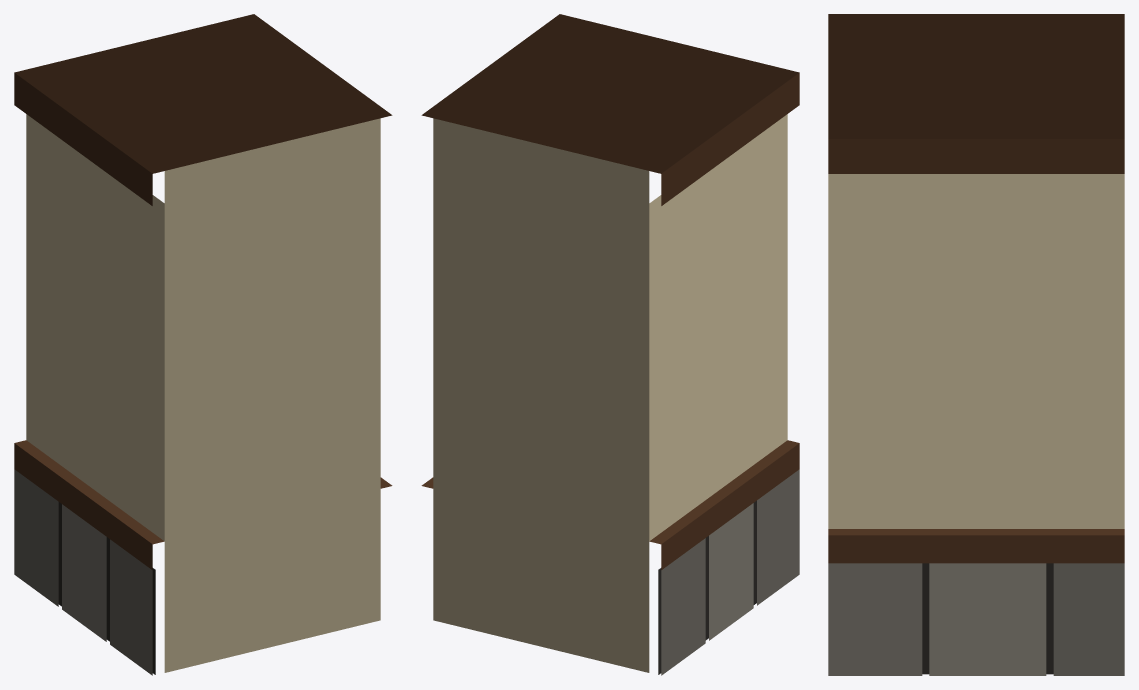
Rendered from tile_house_wall_3.glb.
3 views of the same model, side by side, from view 1: azimuth 30°, elevation 25°; view 2: azimuth 150°, elevation 25°; view 3: azimuth 270°, elevation 25° (orthographic). The views are drawn at different scales.
Visible parts, largest first — view 1: tile_house_wall_3; view 2: tile_house_wall_3; view 3: tile_house_wall_3.
Boxes of the visible parts, <box> form: tile_house_wall_3: <box>14,14,392,675</box>; tile_house_wall_3: <box>421,14,799,675</box>; tile_house_wall_3: <box>828,14,1124,675</box>.
Size of the model in its own units: 1 by 2 by 1.
